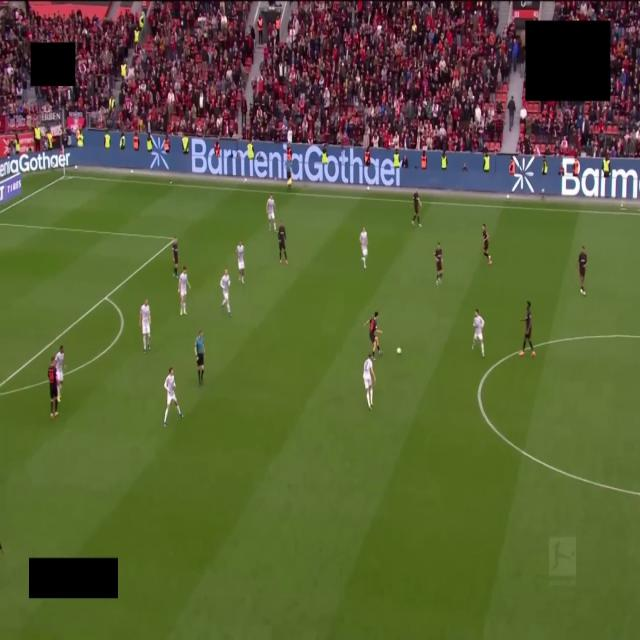ball: (397, 348, 401, 354)
player: (164, 368, 183, 426), (519, 302, 535, 356), (365, 312, 382, 359), (363, 356, 375, 409), (48, 357, 58, 419), (178, 267, 190, 315), (472, 310, 484, 357), (139, 300, 150, 351), (220, 270, 231, 316), (55, 345, 64, 401), (578, 247, 587, 295), (278, 221, 287, 264), (266, 193, 276, 231), (482, 224, 491, 264), (435, 242, 443, 285), (412, 192, 421, 226), (237, 241, 244, 283), (360, 228, 367, 268), (172, 238, 178, 277)
referee: (195, 330, 204, 385)
